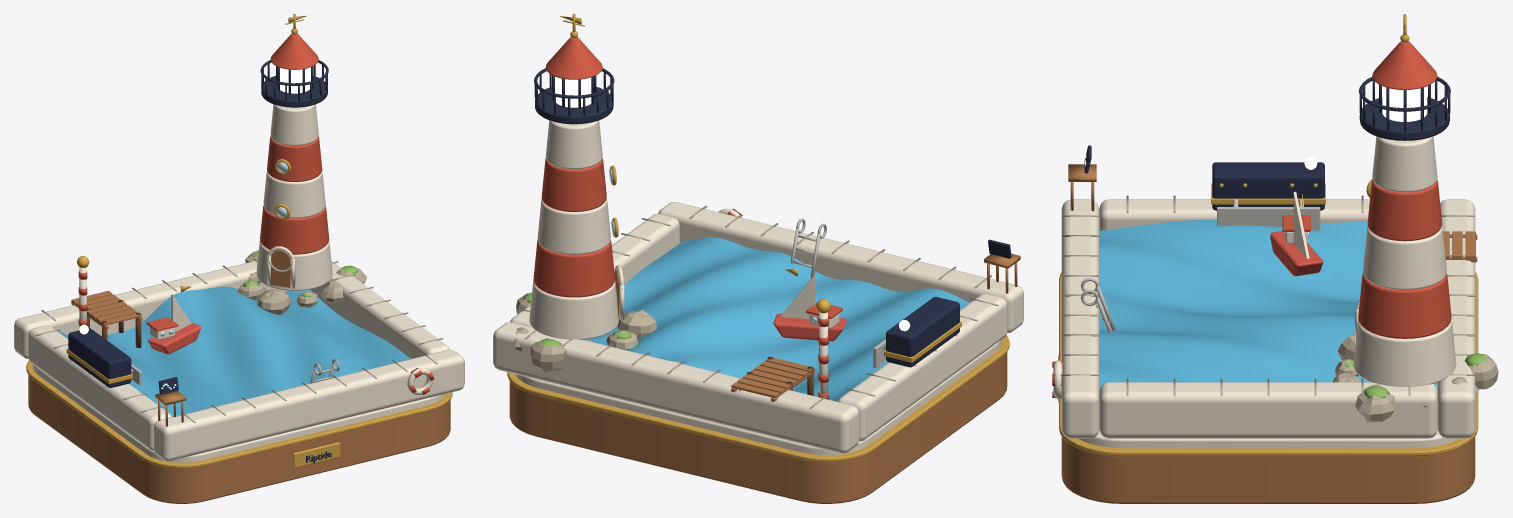
File: riptide.glb
3 views of the same model, side by side, from view 1: azimuth 30°, elevation 25°; view 2: azimuth 150°, elevation 25°; view 3: azimuth 270°, elevation 25° (orthographic). The views are drawn at different scales.
Parts seen in each view (by area): view 1: Riptide_Rim, Riptide_Water, Riptide, Riptide_TowerWhite, Riptide_TowerRed, Riptide_Trim, Riptide_Deck, Riptide_XWaveBox, Riptide_XRocks, Riptide_XJetty, Riptide_Cap, Riptide_Gallery (+8 smaller); view 2: Riptide_Rim, Riptide_Water, Riptide, Riptide_TowerWhite, Riptide_TowerRed, Riptide_Trim, Riptide_Deck, Riptide_XWaveBox, Riptide_XRocks, Riptide_XJetty, Riptide_Cap, Riptide_Gallery (+7 smaller); view 3: Riptide_Water, Riptide_Rim, Riptide, Riptide_TowerWhite, Riptide_TowerRed, Riptide_Trim, Riptide_XWaveBox, Riptide_Deck, Riptide_XRocks, Riptide_Cap, Riptide_Gallery, Riptide_XWavePaddle (+10 smaller).
Part boxes in pixels (left/top/right/bottom): Riptide_Rim: left=14, top=261, right=464, bottom=461; Riptide_Water: left=54, top=286, right=410, bottom=416; Riptide: left=28, top=375, right=450, bottom=503; Riptide_TowerWhite: left=256, top=104, right=332, bottom=290; Riptide_TowerRed: left=260, top=136, right=329, bottom=254; Riptide_Trim: left=26, top=361, right=452, bottom=468; Riptide_Deck: left=32, top=364, right=445, bottom=462; Riptide_XWaveBox: left=68, top=328, right=131, bottom=387; Riptide_XRocks: left=237, top=250, right=366, bottom=314; Riptide_XJetty: left=71, top=290, right=142, bottom=329; Riptide_Cap: left=270, top=33, right=318, bottom=69; Riptide_Gallery: left=261, top=76, right=327, bottom=107; Riptide_Rim: left=493, top=202, right=1023, bottom=453; Riptide_Water: left=584, top=237, right=969, bottom=401; Riptide: left=509, top=352, right=1007, bottom=503; Riptide_TowerWhite: left=529, top=120, right=618, bottom=339; Riptide_TowerRed: left=533, top=158, right=614, bottom=297; Riptide_Trim: left=507, top=335, right=1009, bottom=462; Riptide_Deck: left=515, top=339, right=1002, bottom=455; Riptide_XWaveBox: left=886, top=297, right=959, bottom=367; Riptide_XRocks: left=510, top=293, right=656, bottom=372; Riptide_XJetty: left=731, top=358, right=815, bottom=401; Riptide_Cap: left=545, top=37, right=602, bottom=79; Riptide_Gallery: left=535, top=87, right=613, bottom=124; Riptide_Water: left=1099, top=219, right=1437, bottom=390; Riptide_Rim: left=1061, top=199, right=1475, bottom=438; Riptide: left=1061, top=436, right=1475, bottom=503; Riptide_TowerWhite: left=1353, top=136, right=1456, bottom=386; Riptide_TowerRed: left=1358, top=179, right=1451, bottom=338; Riptide_Trim: left=1059, top=272, right=1478, bottom=456; Riptide_XWaveBox: left=1212, top=162, right=1324, bottom=210; Riptide_Deck: left=1078, top=429, right=1458, bottom=448; Riptide_XRocks: left=1332, top=334, right=1498, bottom=422; Riptide_Cap: left=1372, top=41, right=1437, bottom=89; Riptide_Gallery: left=1359, top=97, right=1449, bottom=140; Riptide_XWavePaddle: left=1217, top=198, right=1320, bottom=230.
Bounding box in the file's own units: 5.26 × 5.4 × 4.75.
